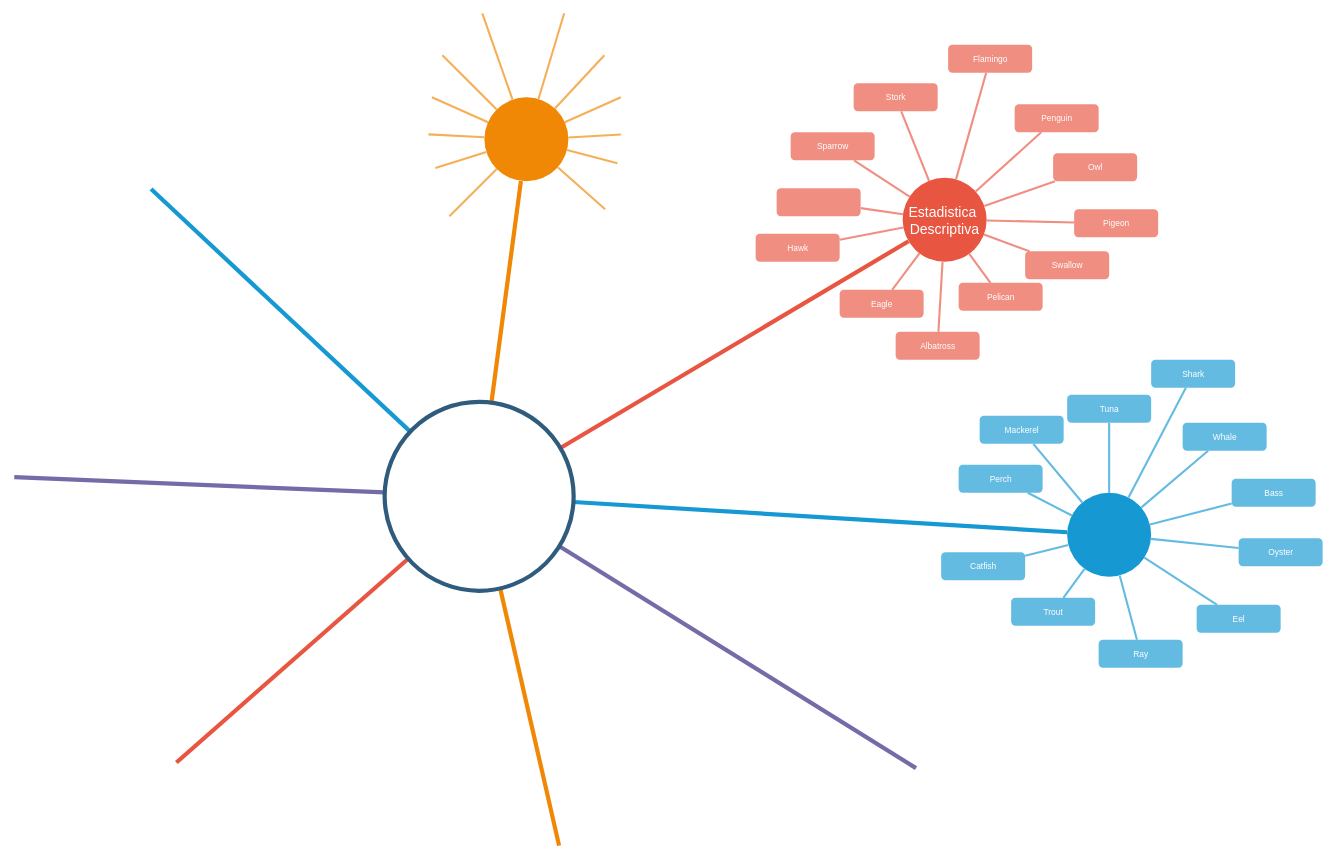
This 1335x860 diagram has some shape labels left out. The shapes that lost their labels are listed below. From the top down, each one's centre as x and y in pixels, then its label:
At (818,202): "Falcon".
At (478,496): "Estadistica".
At (1109,534): "Fish".
